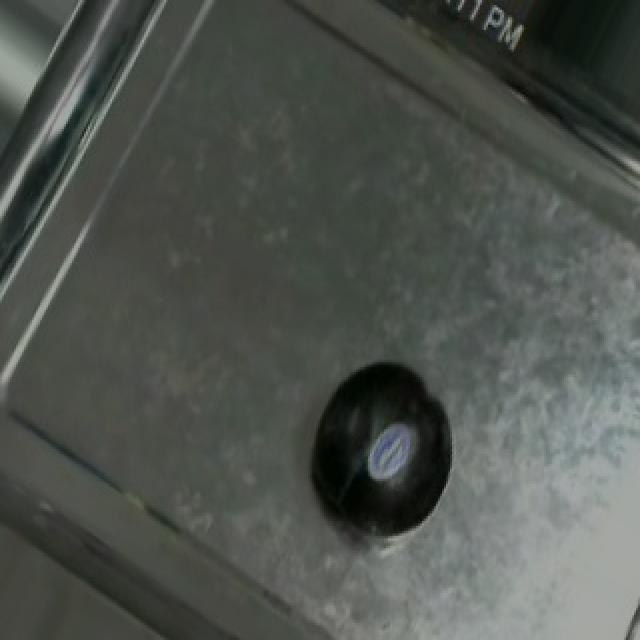Fruit: (286, 347, 478, 568)
